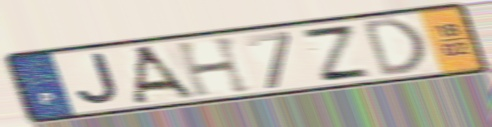7: (242, 29, 294, 90)
A: (131, 43, 200, 105)
D: (359, 15, 430, 80)
H: (172, 34, 256, 100)
J: (74, 51, 124, 108)
Z: (296, 24, 376, 83)
